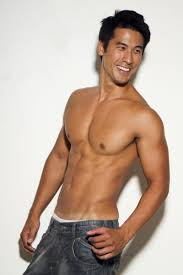asian_male: (95, 17, 150, 90)
